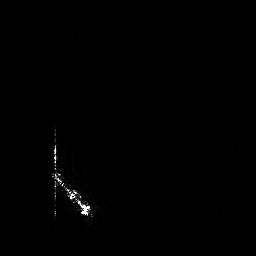ship: (49, 169, 97, 219)
